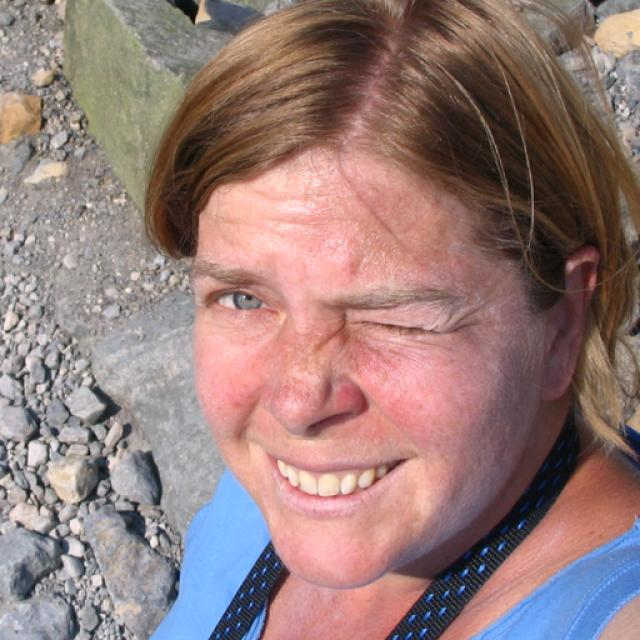Pigmentation: (350, 328, 450, 430), (268, 323, 357, 407)
